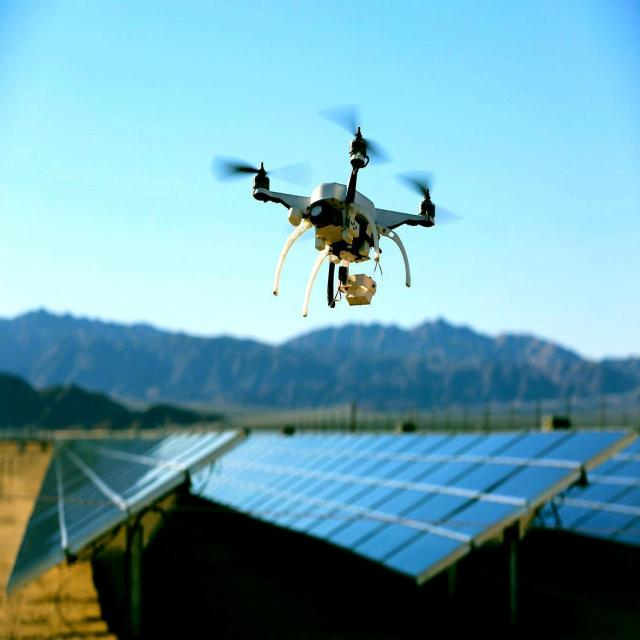UAV: (251, 123, 436, 315)
